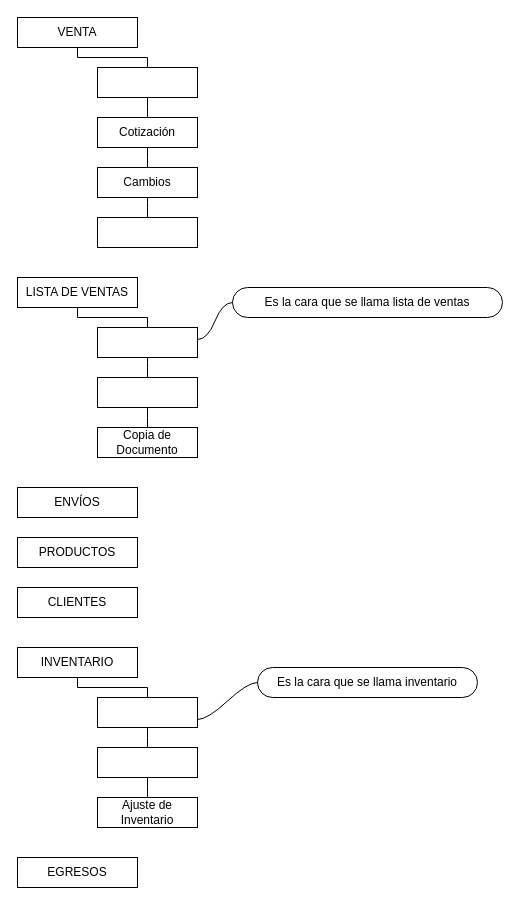
Image size: 520x905. Some labels were removed from this diagram. The box of each missing label's shape, as (x1, y1, x2, y2) in pixels:
Arqueo de Caja: (96, 746, 198, 778)
Cantidad en Bodega: (96, 696, 198, 728)
Cartera: (96, 376, 198, 408)
Consignaciones: (96, 216, 198, 248)
General: (96, 326, 198, 358)
Registrar: (96, 66, 198, 98)
